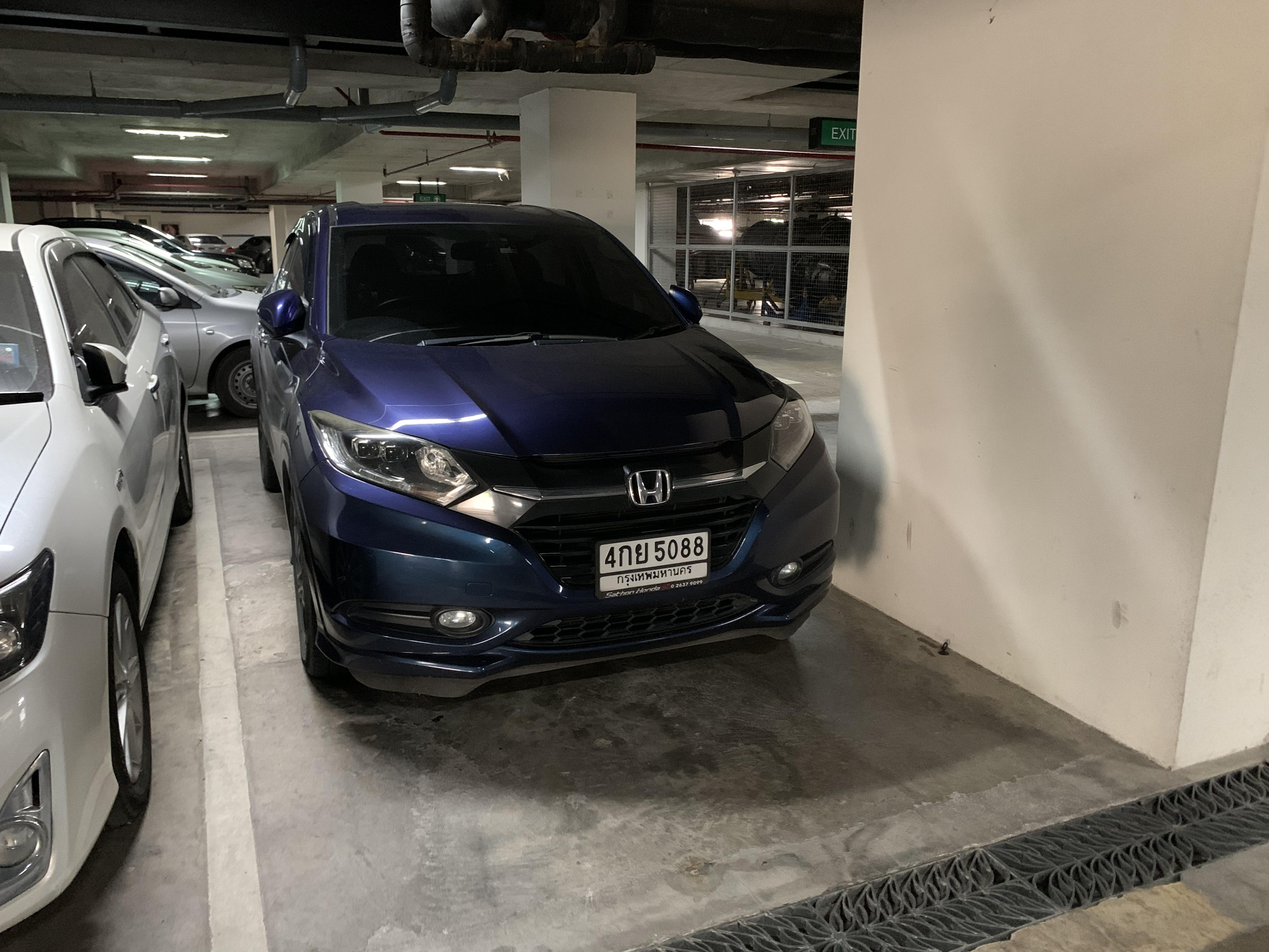license-plate: (592, 526, 717, 601)
